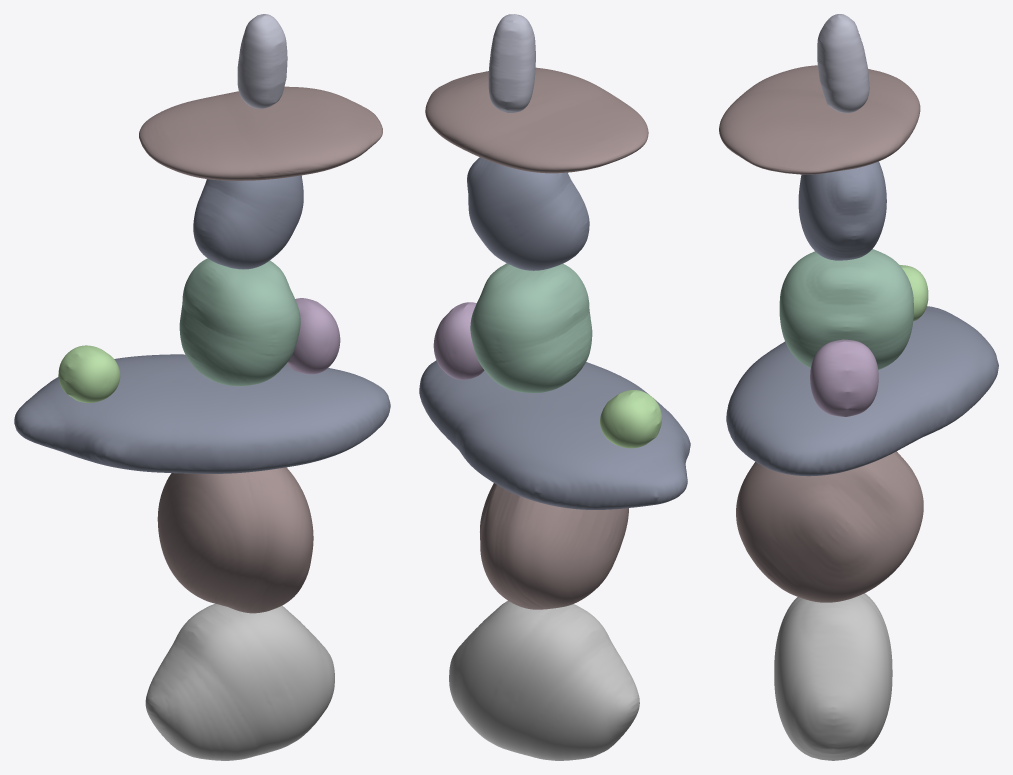
Rendered from Stone Stack 2.fbx.
3 views of the same model, side by side, from view 1: azimuth 30°, elevation 25°; view 2: azimuth 150°, elevation 25°; view 3: azimuth 270°, elevation 25° (orthographic).
Parts seen in each view (by area): view 1: root (×9); view 2: root (×9); view 3: root (×9).
Boxes of the visible parts, x1,y1,x2,y2 form: root (×9): [14, 14, 390, 760]; root (×9): [419, 14, 690, 760]; root (×9): [719, 14, 998, 760].
Size of the model in its own units: 0.2029 by 0.4571 by 0.1561.
8 materials, 6 textured.
